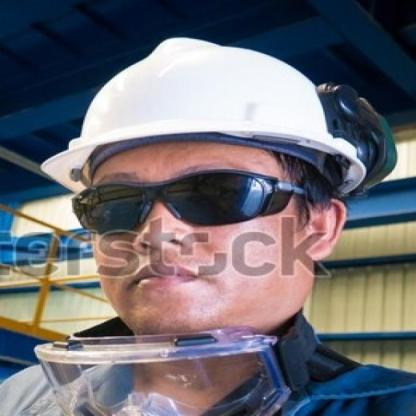capacete: (58, 34, 356, 170)
oculos: (63, 172, 310, 224)
